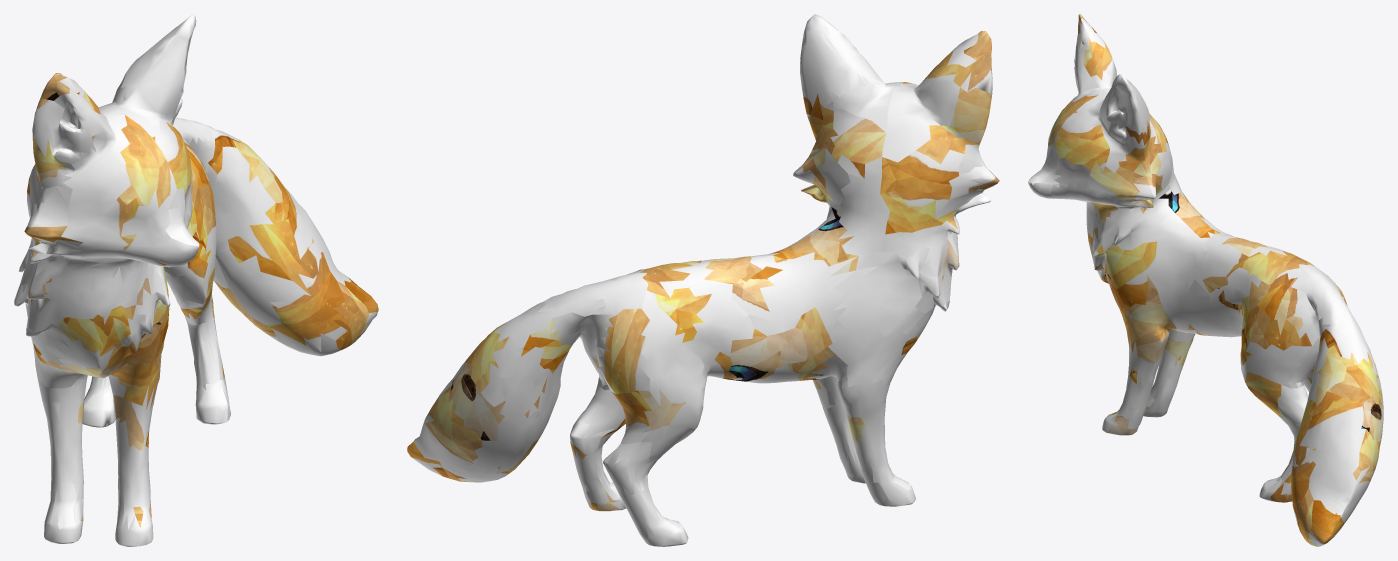
File: aurora_fox_gold_7500tris.fbx
3 renders of one model, left to right at view 1: azimuth 30°, elevation 25°; view 2: azimuth 150°, elevation 25°; view 3: azimuth 270°, elevation 25°, orthographic. The views are drawn at different scales.
Visible parts, largest first — view 1: aurora_fox_gold_decimated; view 2: aurora_fox_gold_decimated; view 3: aurora_fox_gold_decimated.
Part boxes in pixels (x1,y1,x2,y2): aurora_fox_gold_decimated: (14,14,378,546); aurora_fox_gold_decimated: (407,14,999,546); aurora_fox_gold_decimated: (1028,14,1383,546).
Bounding box in the file's own units: 1.91 × 1.82 × 1.55.
